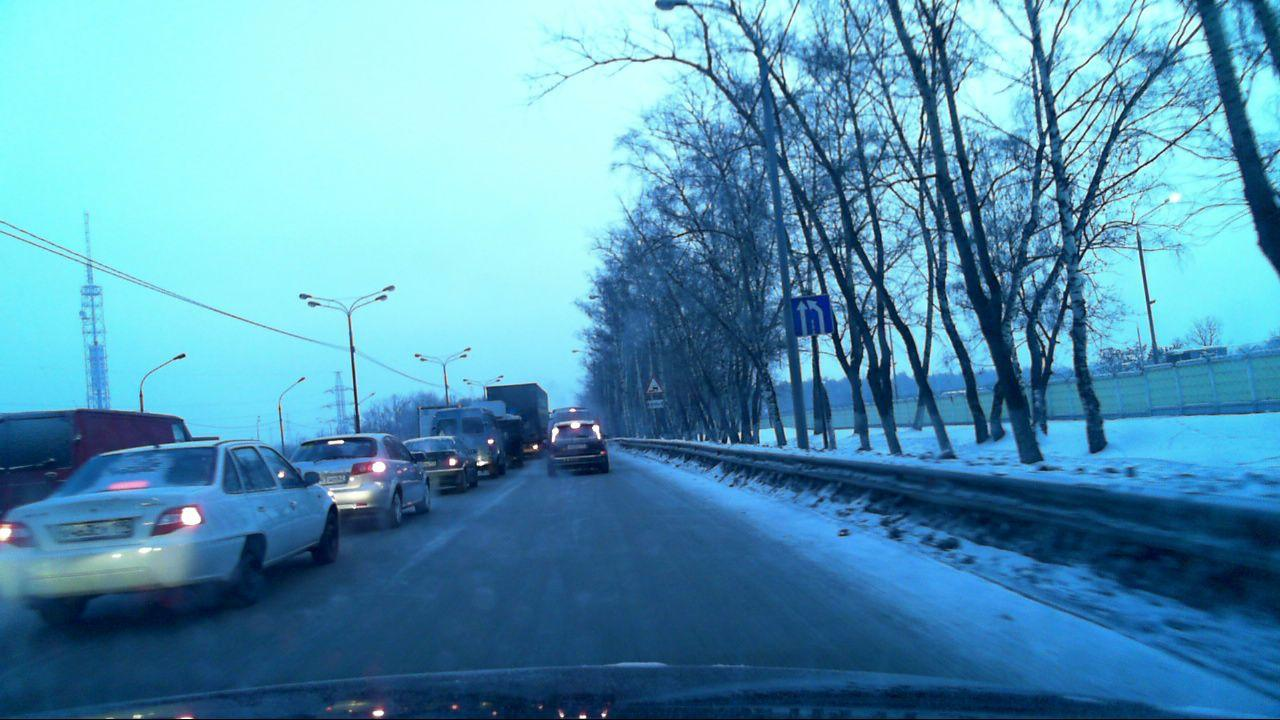1_19: (645, 377, 663, 394)
5_15_5: (789, 295, 834, 338)
8_2_1: (647, 399, 664, 408)
